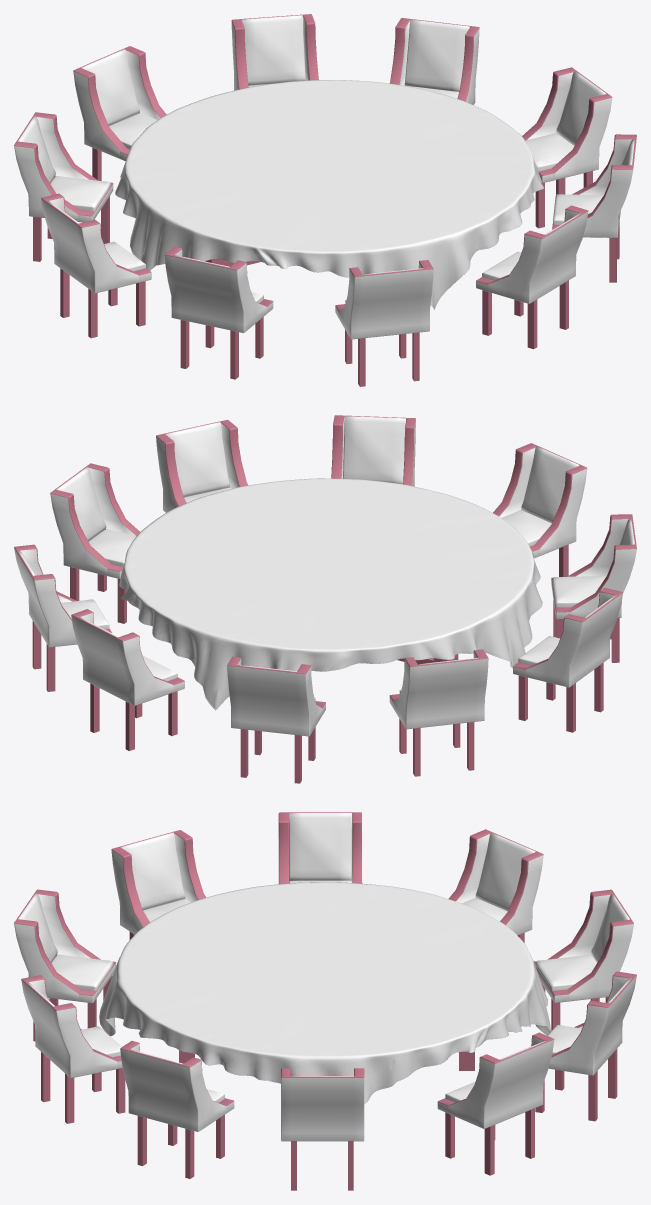
The model's file is table.obj.
3 renders of one model, top to bottom at view 1: azimuth 30°, elevation 25°; view 2: azimuth 150°, elevation 25°; view 3: azimuth 270°, elevation 25°, orthographic. The views are drawn at different scales.
Parts seen in each view (by area): view 1: Obj3d66_578302_1629_580, Box010, Box008, Box006, Box012, Box001, Box014, 7230e16a_e419_4d46_82bd_5a192d08d84a, Box016, 45b3cd41_41b7_4cb6_8ce2_a5251097ed6d, Box004, 450cc08a_5561_4a80_8c03_cfc2a825ab34 (+7 smaller); view 2: Obj3d66_578302_1629_580, Box016, Box014, Box018, Box012, Box001, Box020, Box008, 31934248_7dbf_4dd3_b12a_60a60a3843ad, Box010, aebd3da0_e7f8_4999_aa8c_f4ce683fc0e1, 741d2df6_ca02_4056_af04_ae08e22b159c (+6 smaller); view 3: Obj3d66_578302_1629_580, Box004, Box020, Box001, Box006, Box018, Box008, Box016, cff3e7aa_901b_484c_b681_8c5e18b44378, d984e974_ab40_425c_860f_cd9f5a54e70c, Box014, Box010 (+6 smaller).
Part boxes in pixels (left/top/right/bottom): Obj3d66_578302_1629_580: left=115, top=80, right=544, bottom=309; Box010: left=164, top=246, right=273, bottom=379; Box008: left=335, top=260, right=433, bottom=386; Box006: left=476, top=205, right=588, bottom=349; Box012: left=41, top=193, right=151, bottom=338; Box001: left=522, top=67, right=612, bottom=228; Box014: left=14, top=112, right=113, bottom=261; 7230e16a_e419_4d46_82bd_5a192d08d84a: left=404, top=19, right=469, bottom=98; Box016: left=73, top=46, right=166, bottom=180; 45b3cd41_41b7_4cb6_8ce2_a5251097ed6d: left=241, top=15, right=305, bottom=87; Box004: left=552, top=134, right=636, bottom=282; 450cc08a_5561_4a80_8c03_cfc2a825ab34: left=81, top=49, right=156, bottom=149; Obj3d66_578302_1629_580: left=119, top=478, right=542, bottom=710; Box016: left=227, top=656, right=325, bottom=783; Box014: left=389, top=649, right=488, bottom=776; Box018: left=71, top=609, right=184, bottom=750; Box012: left=513, top=587, right=623, bottom=732; Box001: left=50, top=463, right=139, bottom=623; Box020: left=14, top=544, right=111, bottom=691; Box008: left=493, top=443, right=587, bottom=576; 31934248_7dbf_4dd3_b12a_60a60a3843ad: left=343, top=416, right=405, bottom=484; Box010: left=551, top=514, right=636, bottom=662; aebd3da0_e7f8_4999_aa8c_f4ce683fc0e1: left=165, top=422, right=231, bottom=502; 741d2df6_ca02_4056_af04_ae08e22b159c: left=501, top=446, right=579, bottom=546; Obj3d66_578302_1629_580: left=99, top=882, right=551, bottom=1103; Box004: left=120, top=1041, right=234, bottom=1178; Box020: left=437, top=1032, right=554, bottom=1175; Box001: left=281, top=1068, right=364, bottom=1190; Box006: left=21, top=975, right=125, bottom=1123; Box018: left=535, top=971, right=636, bottom=1121; Box008: left=14, top=889, right=116, bottom=1041; Box016: left=533, top=889, right=633, bottom=1030; cff3e7aa_901b_484c_b681_8c5e18b44378: left=289, top=813, right=351, bottom=883; d984e974_ab40_425c_860f_cd9f5a54e70c: left=120, top=832, right=190, bottom=921; Box014: left=448, top=829, right=543, bottom=942; Box010: left=111, top=830, right=205, bottom=939.
Size of the model in its own units: 4.37 by 0.9276 by 4.34.
